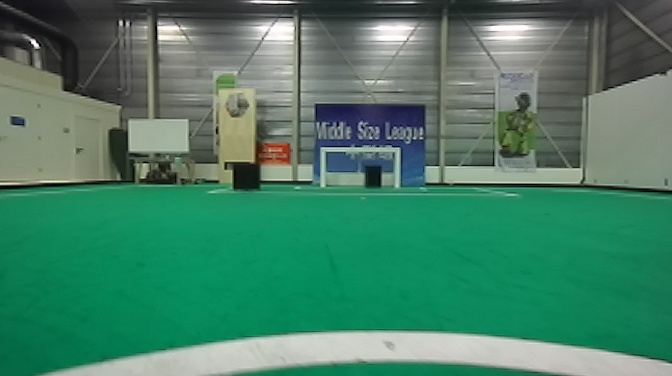goalpost: (318, 146, 327, 189), (392, 148, 401, 190)
